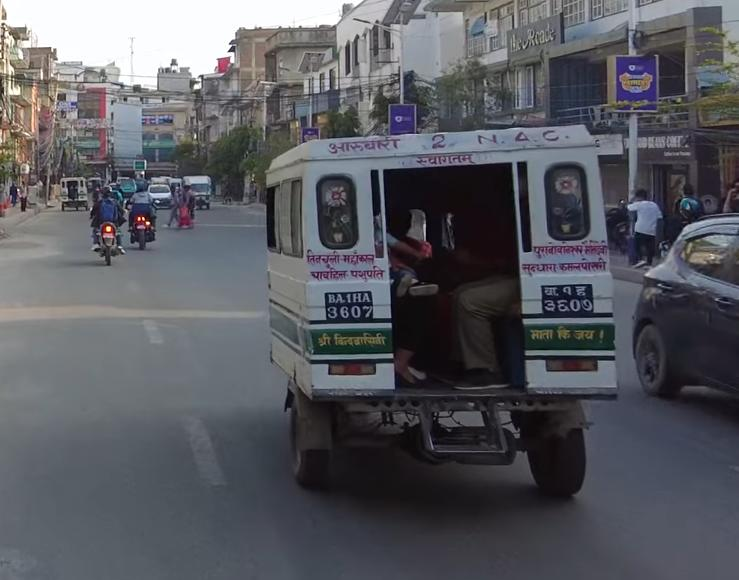bike: (88, 208, 123, 268), (125, 202, 157, 255)
car: (631, 207, 739, 407)
tempo: (254, 119, 621, 503), (179, 172, 216, 210), (58, 172, 93, 210)
